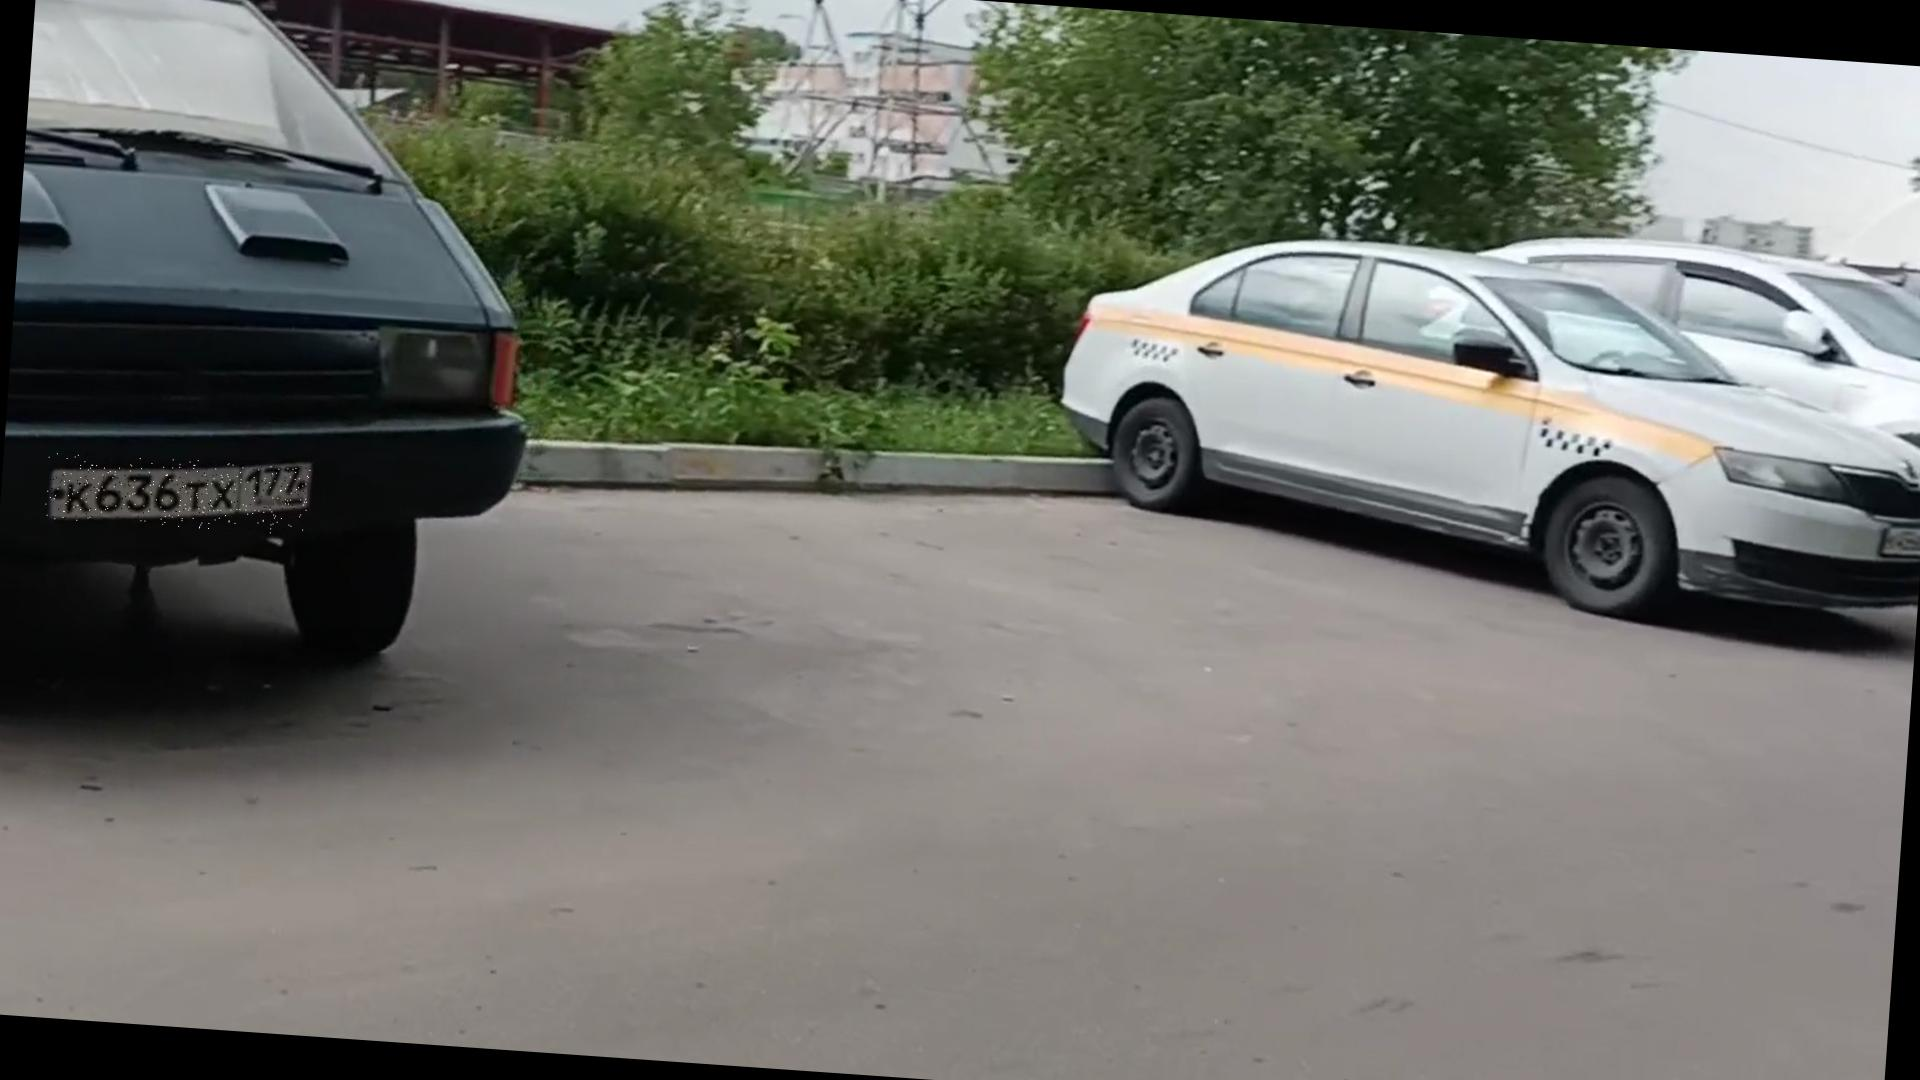plate: (45, 451, 312, 538)
